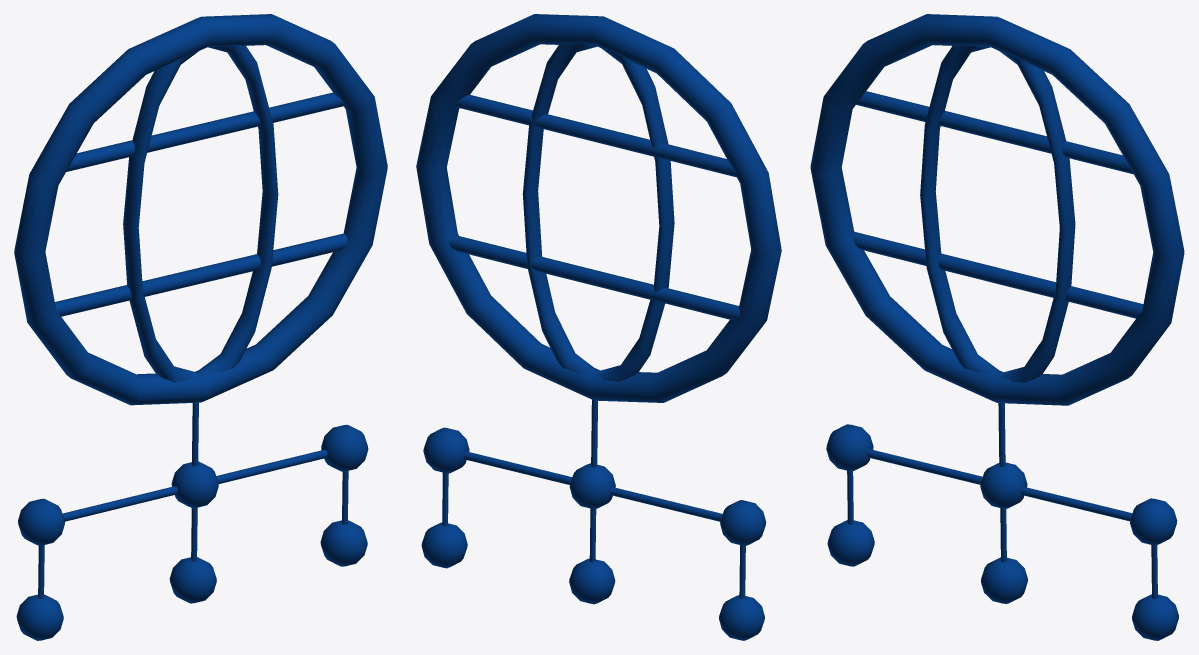
The model's file is network.glb.
3 renders of one model, left to right at view 1: azimuth 30°, elevation 25°; view 2: azimuth 150°, elevation 25°; view 3: azimuth 330°, elevation 25°, orthographic. The views are drawn at different scales.
Parts seen in each view (by area): view 1: Torus, Torus 1, Cylinder 1, Cylinder, Sphere 2, Sphere 5, Sphere 4, Sphere 3, Sphere 1, Sphere, Cylinder 4, Cylinder 3; view 2: Torus, Torus 1, Cylinder 1, Cylinder, Sphere 2, Sphere 5, Sphere 3, Sphere 4, Sphere 1, Sphere, Cylinder 4, Cylinder 3; view 3: Torus, Torus 1, Cylinder 1, Cylinder, Sphere 1, Sphere 3, Sphere 4, Sphere 2, Sphere 5, Sphere, Cylinder 4, Cylinder 3.
Boxes of the visible parts, x1,y1,x2,y2 form: Torus: (14,14,387,405); Torus 1: (123,45,278,382); Cylinder 1: (55,233,347,316); Cylinder: (66,92,344,171); Sphere 2: (18,498,64,545); Sphere 5: (169,557,216,603); Sphere 4: (320,520,367,566); Sphere 3: (16,594,63,640); Sphere 1: (321,424,368,471); Sphere: (171,461,218,508); Cylinder 4: (62,486,177,521); Cylinder 3: (216,449,327,483); Torus: (416,14,781,402); Torus 1: (522,43,674,381); Cylinder 1: (449,235,739,320); Cylinder: (455,95,737,177); Sphere 2: (720,500,766,545); Sphere 5: (569,558,615,604); Sphere 3: (719,595,764,640); Sphere 4: (421,522,467,568); Sphere 1: (423,427,469,473); Sphere: (569,463,615,509); Cylinder 4: (610,487,722,521); Cylinder 3: (464,451,572,484); Torus: (810,14,1184,405); Torus 1: (920,45,1075,382); Cylinder 1: (853,231,1143,318); Cylinder: (856,91,1133,174); Sphere 1: (1130,498,1177,545); Sphere 3: (827,520,874,566); Sphere 4: (1132,594,1178,640); Sphere 2: (826,424,873,471); Sphere 5: (981,557,1027,603); Sphere: (980,462,1027,508); Cylinder 4: (867,449,982,484); Cylinder 3: (1021,487,1132,521).
Size of the model in its own units: 0.0191 by 0.0292 by 0.00263.
